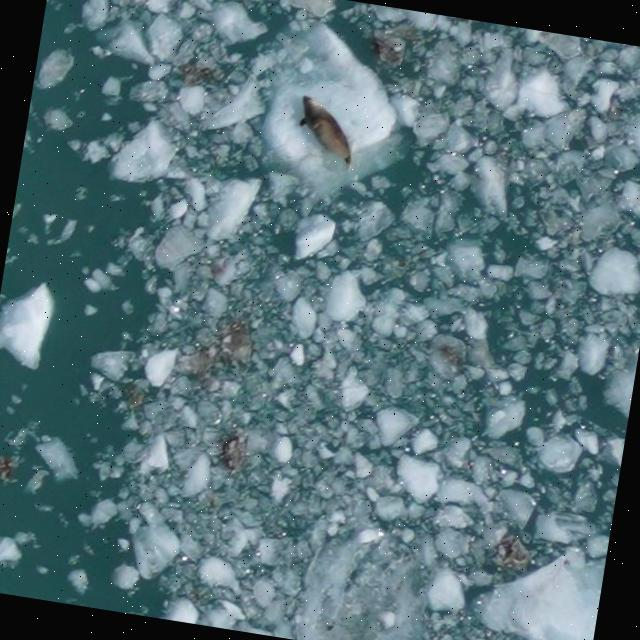seal: (298, 95, 352, 168)
